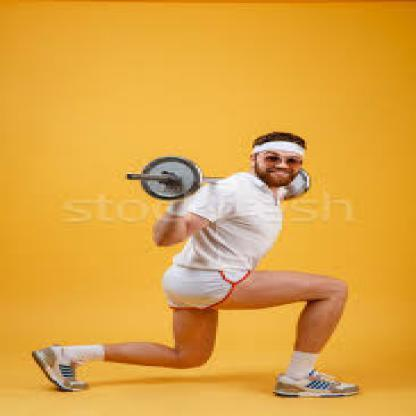Barbell: (117, 164, 147, 187)
